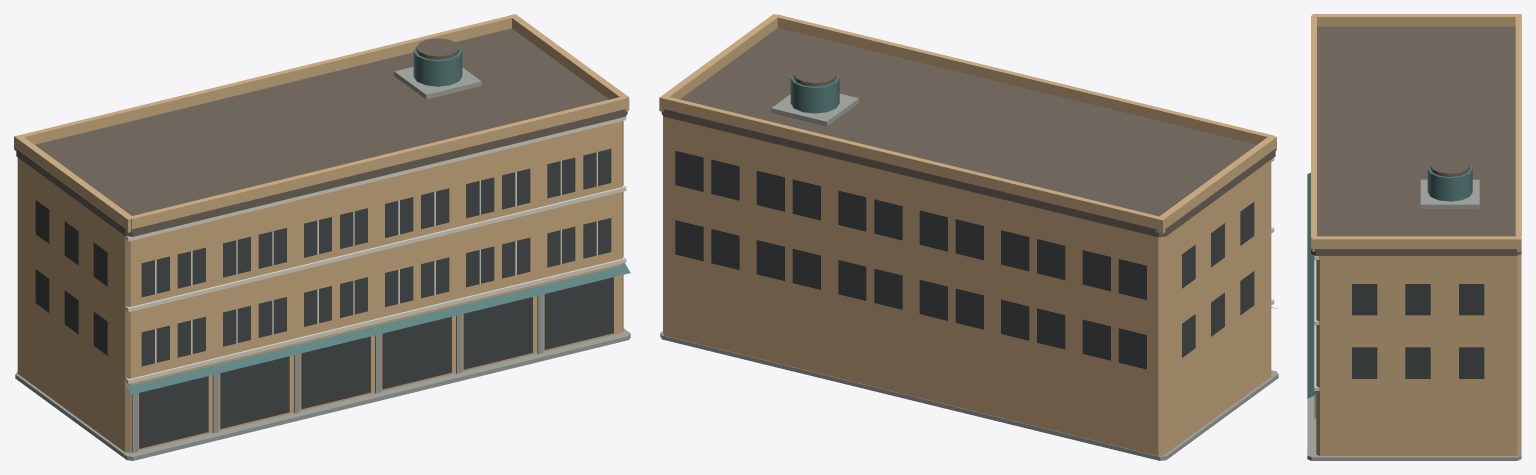
The model's file is building_lowrise.glb.
3 views of the same model, side by side, from view 1: azimuth 30°, elevation 25°; view 2: azimuth 150°, elevation 25°; view 3: azimuth 270°, elevation 25° (orthographic). The views are drawn at different scales.
Parts seen in each view (by area): view 1: building_lowrise; view 2: building_lowrise; view 3: building_lowrise.
Boxes of the visible parts, box(x1,y1,x2,y2) form: building_lowrise: box(14, 14, 630, 460); building_lowrise: box(659, 14, 1278, 460); building_lowrise: box(1307, 14, 1521, 460).
Size of the model in its own units: 30 by 15 by 12.
